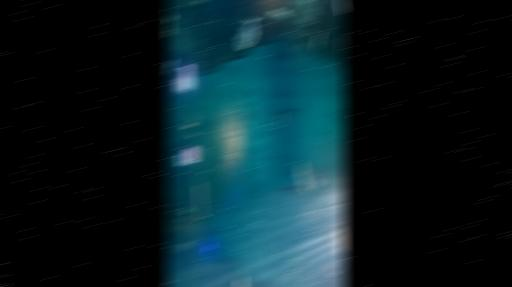Fish: (238, 17, 257, 49), (299, 161, 312, 193), (336, 226, 345, 253), (304, 201, 315, 222), (269, 10, 292, 19), (312, 171, 323, 189), (287, 261, 296, 282), (274, 236, 285, 253), (267, 247, 276, 263), (315, 34, 322, 50), (338, 0, 345, 13), (261, 117, 272, 125), (167, 62, 174, 74), (253, 109, 262, 117), (237, 106, 248, 112), (239, 123, 248, 130), (248, 218, 257, 225), (254, 215, 263, 222), (241, 112, 248, 120), (246, 114, 253, 122), (240, 102, 251, 107), (327, 262, 334, 269), (339, 36, 345, 43), (279, 109, 292, 112), (281, 114, 284, 126), (266, 127, 270, 136), (250, 90, 256, 96), (287, 190, 294, 195), (287, 214, 294, 219), (283, 187, 300, 189), (165, 281, 173, 285), (255, 234, 262, 238), (339, 37, 343, 43), (247, 223, 250, 228), (242, 282, 244, 286)
